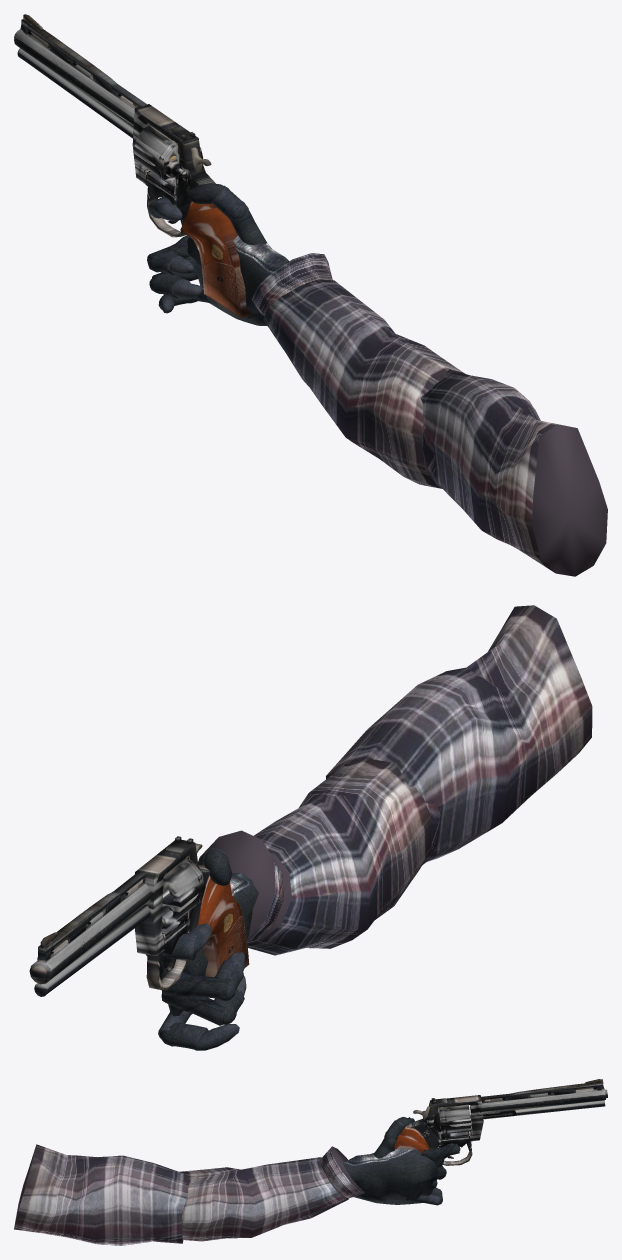
Rendered from python_vfire.fbx.
The picture shows the model from 3 angles, top to bottom: view 1: azimuth 30°, elevation 25°; view 2: azimuth 150°, elevation 25°; view 3: azimuth 270°, elevation 25°; orthographic projection. The views are drawn at different scales.
Parts seen in each view (by area): view 1: rupperarm, rforearm, PythonGrip, PythonBody, PythonBarrel, rhand, PythonFrontSight, PythonCylinder; view 2: rupperarm, rforearm, PythonBarrel, PythonBody, PythonGrip, PythonFrontSight, PythonCylinder, rhand, rmfingerback, rifingerback, PythonTriggerGuard, rpinkymiddle (+3 smaller); view 3: rupperarm, rforearm, rhand, PythonBody, PythonBarrel, PythonFrontSight, PythonCylinder, rpfingerback, PythonGrip, rthumbback, rthumbmiddle.
Part boxes in pixels (x1,y1,x2,y2): rupperarm: (420, 369, 607, 576); rforearm: (252, 253, 464, 488); PythonGrip: (180, 207, 252, 318); PythonBody: (132, 104, 216, 225); PythonBarrel: (14, 29, 134, 138); rhand: (187, 236, 289, 325); PythonFrontSight: (20, 14, 147, 109); PythonCylinder: (133, 125, 202, 185); rupperarm: (326, 605, 592, 864); rforearm: (198, 758, 431, 955); PythonBarrel: (29, 884, 151, 996); PythonBody: (135, 841, 216, 956); PythonGrip: (199, 882, 249, 977); PythonFrontSight: (37, 872, 145, 962); PythonCylinder: (162, 859, 205, 928); rhand: (159, 872, 258, 1016); rmfingerback: (161, 969, 230, 998); rifingerback: (161, 993, 226, 1025); PythonTriggerGuard: (146, 952, 187, 990); rpinkymiddle: (159, 1022, 208, 1050); rupperarm: (14, 1144, 187, 1245); rforearm: (179, 1146, 364, 1241); rhand: (343, 1148, 440, 1204); PythonBody: (400, 1095, 483, 1149); PythonBarrel: (479, 1088, 607, 1119); PythonFrontSight: (480, 1079, 604, 1103); PythonCylinder: (439, 1105, 471, 1134); rpfingerback: (421, 1143, 459, 1167); PythonGrip: (394, 1134, 427, 1153); rthumbback: (374, 1137, 418, 1159); rthumbmiddle: (384, 1120, 404, 1139).
Size of the model in its own units: 5.15 by 9.13 by 33.72.
3 materials, 3 textured.
